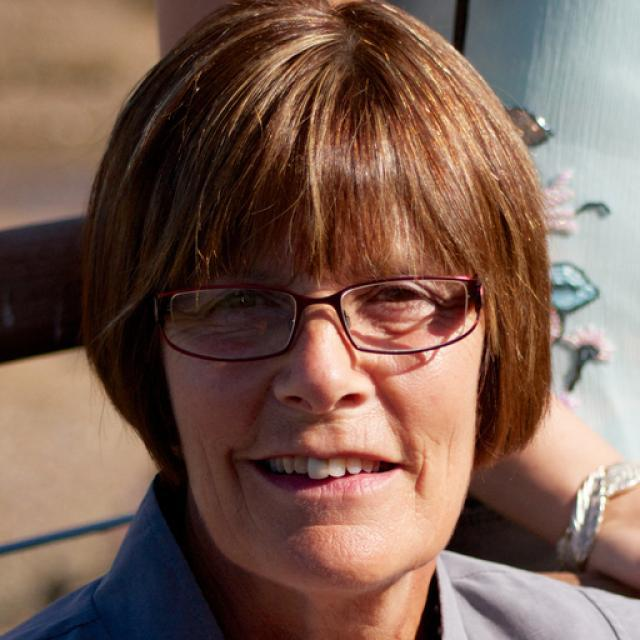happy: (166, 150, 484, 585)
